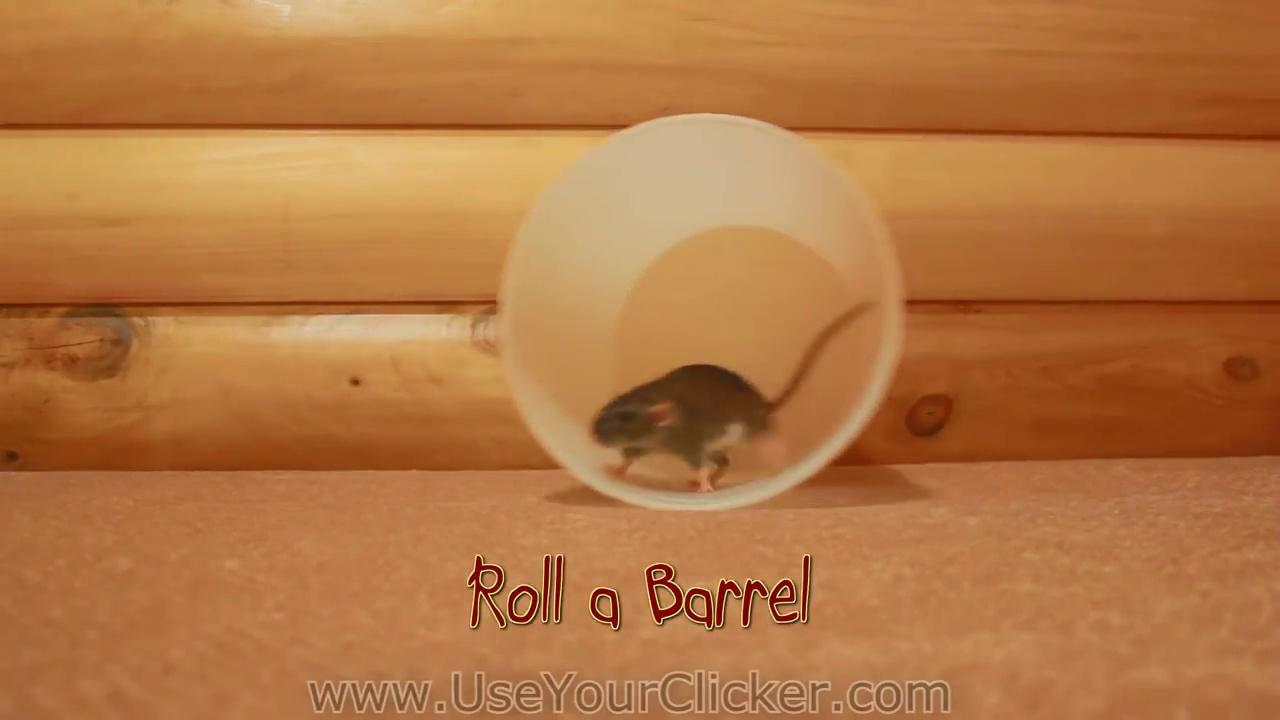rat: (594, 302, 872, 495)
